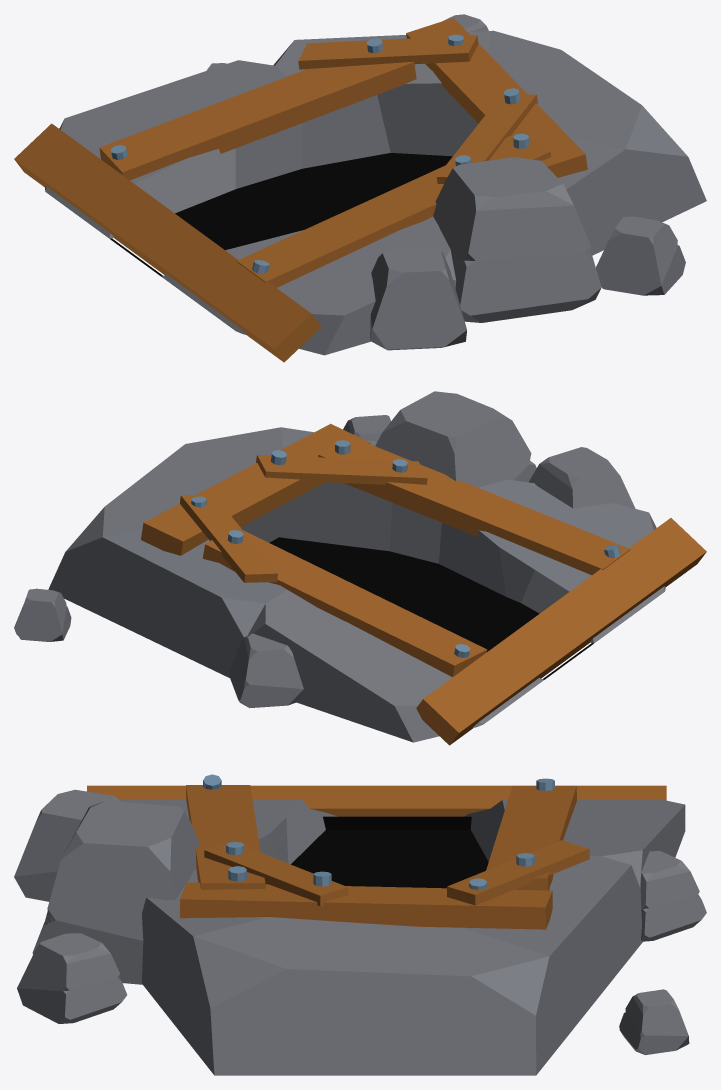
Rendered from TransportBox.fbx.
3 views of the same model, one above another, from view 1: azimuth 30°, elevation 25°; view 2: azimuth 150°, elevation 25°; view 3: azimuth 270°, elevation 25° (orthographic). The views are drawn at different scales.
Visible parts, largest first — view 1: 111HILL; view 2: 111HILL; view 3: 111HILL.
Part boxes in pixels (x1=…): 111HILL: x1=14, y1=14, x2=706, y2=362; 111HILL: x1=14, y1=391, x2=706, y2=745; 111HILL: x1=14, y1=774, x2=706, y2=1075.
Size of the model in its own units: 207 by 45.57 by 228.
